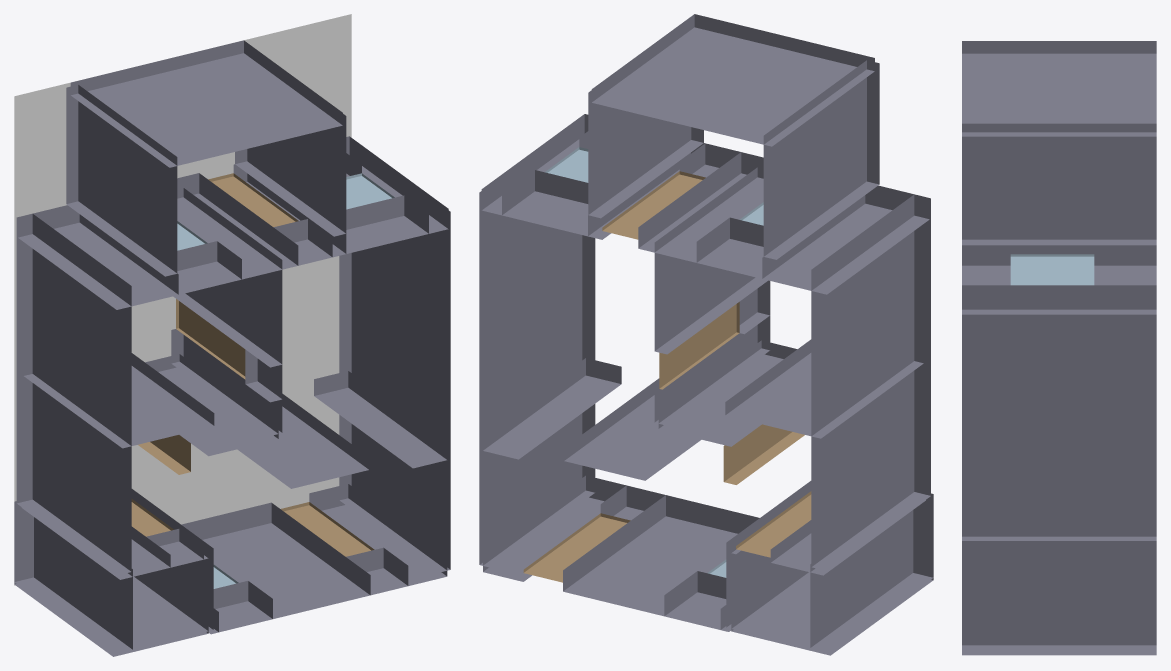
3 renders of one model, left to right at view 1: azimuth 30°, elevation 25°; view 2: azimuth 150°, elevation 25°; view 3: azimuth 270°, elevation 25°, orthographic. The views are drawn at different scales.
Parts seen in each view (by area): view 1: tmp, InteriorFloor; view 2: tmp; view 3: tmp.
Part boxes in pixels (x1=…): tmp: x1=14, y1=40, x2=450, y2=656; InteriorFloor: x1=14, y1=14, x2=351, y2=585; tmp: x1=479, y1=14, x2=933, y2=655; tmp: x1=962, y1=41, x2=1156, y2=655.
Size of the model in its own units: 5.51 by 7.64 by 2.8.
